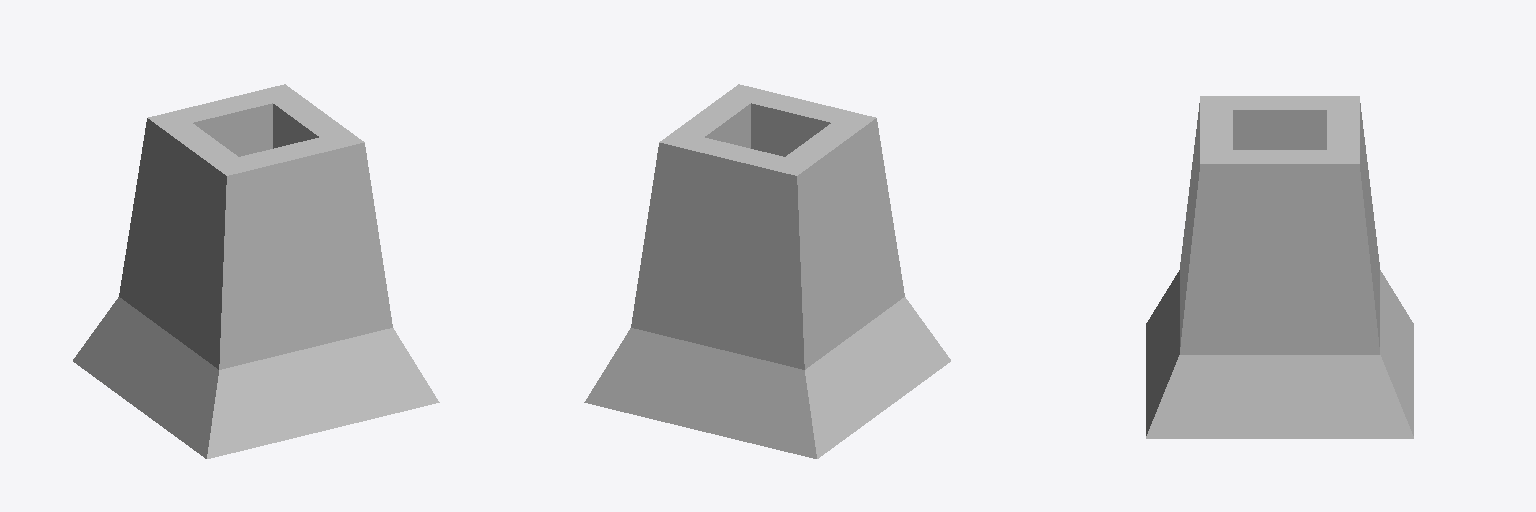
Rendered from Trunk_01.obj.
3 renders of one model, left to right at view 1: azimuth 30°, elevation 25°; view 2: azimuth 150°, elevation 25°; view 3: azimuth 270°, elevation 25°, orthographic.
Parts seen in each view (by area): view 1: Mesh1 Trunk Model; view 2: Mesh1 Trunk Model; view 3: Mesh1 Trunk Model.
Part boxes in pixels (x1,y1,x2,y2): Mesh1 Trunk Model: (73,84,439,458); Mesh1 Trunk Model: (584,84,950,458); Mesh1 Trunk Model: (1146,96,1413,438).
Bounding box in the file's own units: 0.8037 × 0.83 × 0.8037.